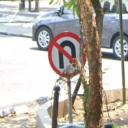NoVirarU: (49, 34, 82, 76)
